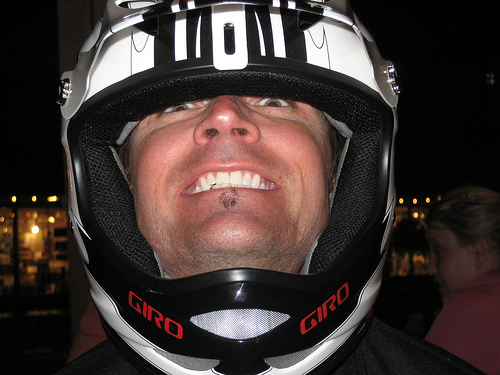helmet: (56, 9, 396, 354)
